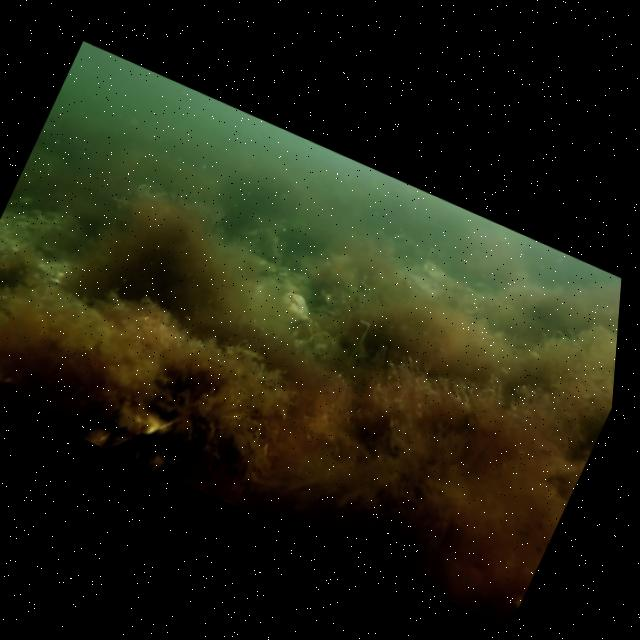Oyster-Indeterminate: (105, 408, 186, 449)
